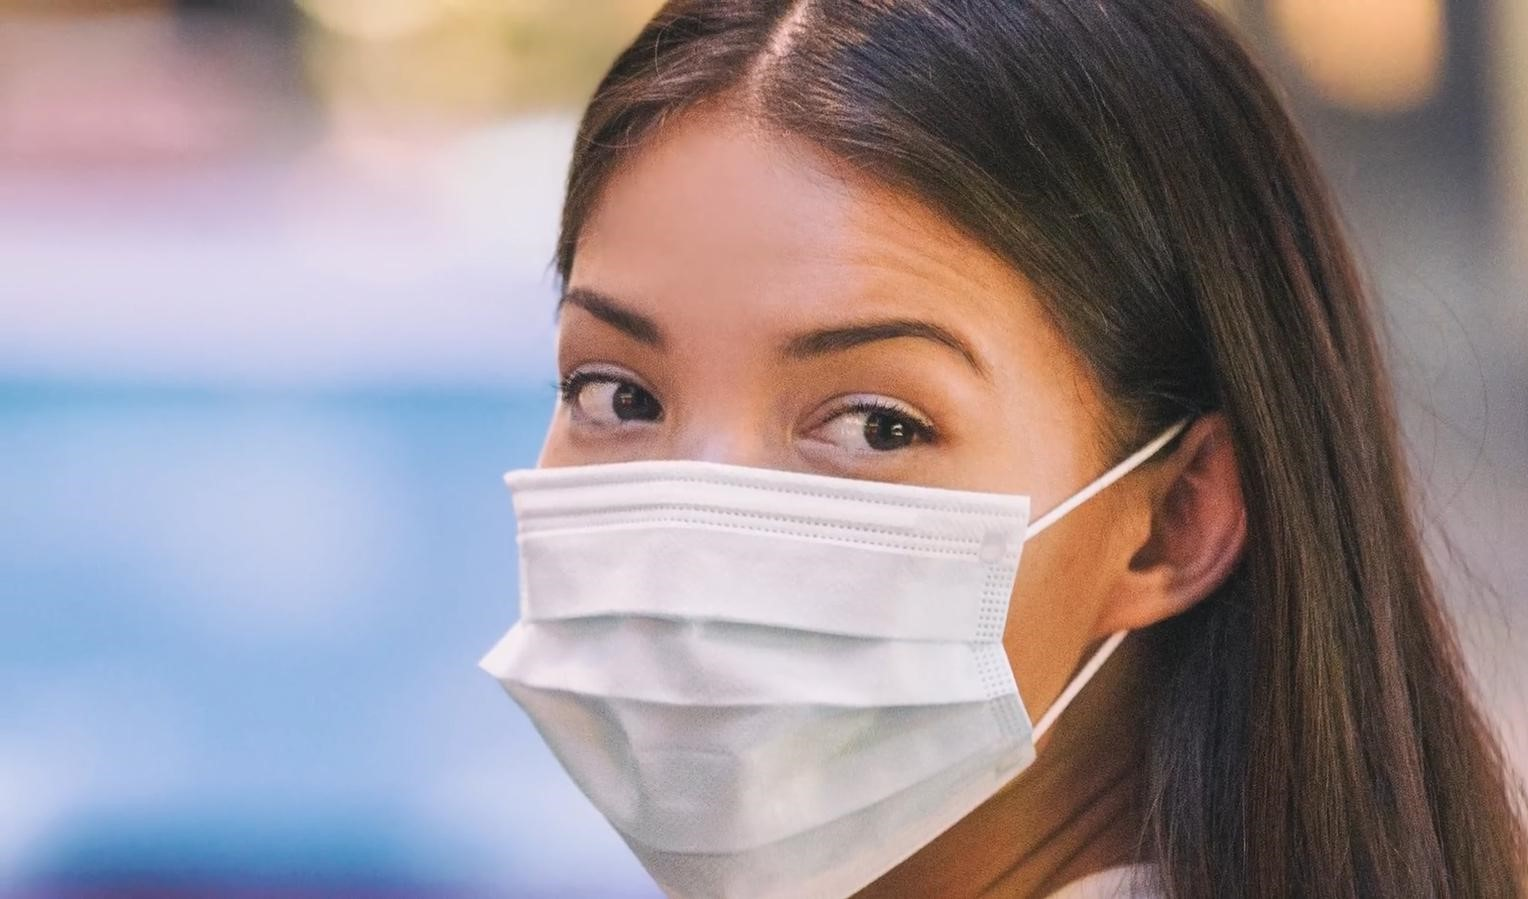with_mask: (559, 264, 998, 791)
